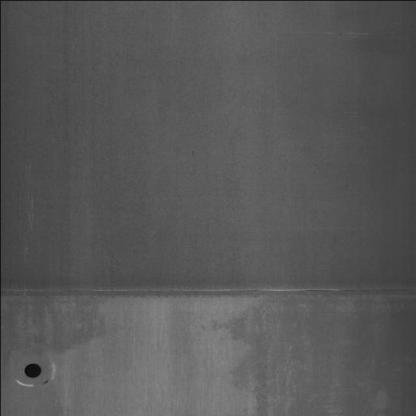punching_hole: (21, 357, 44, 383)
welding_line: (3, 278, 414, 306)
